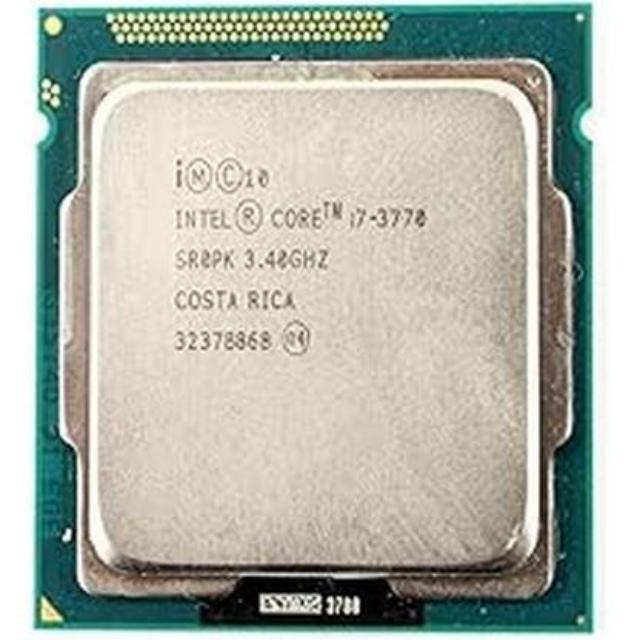CPU: (44, 3, 588, 629)
